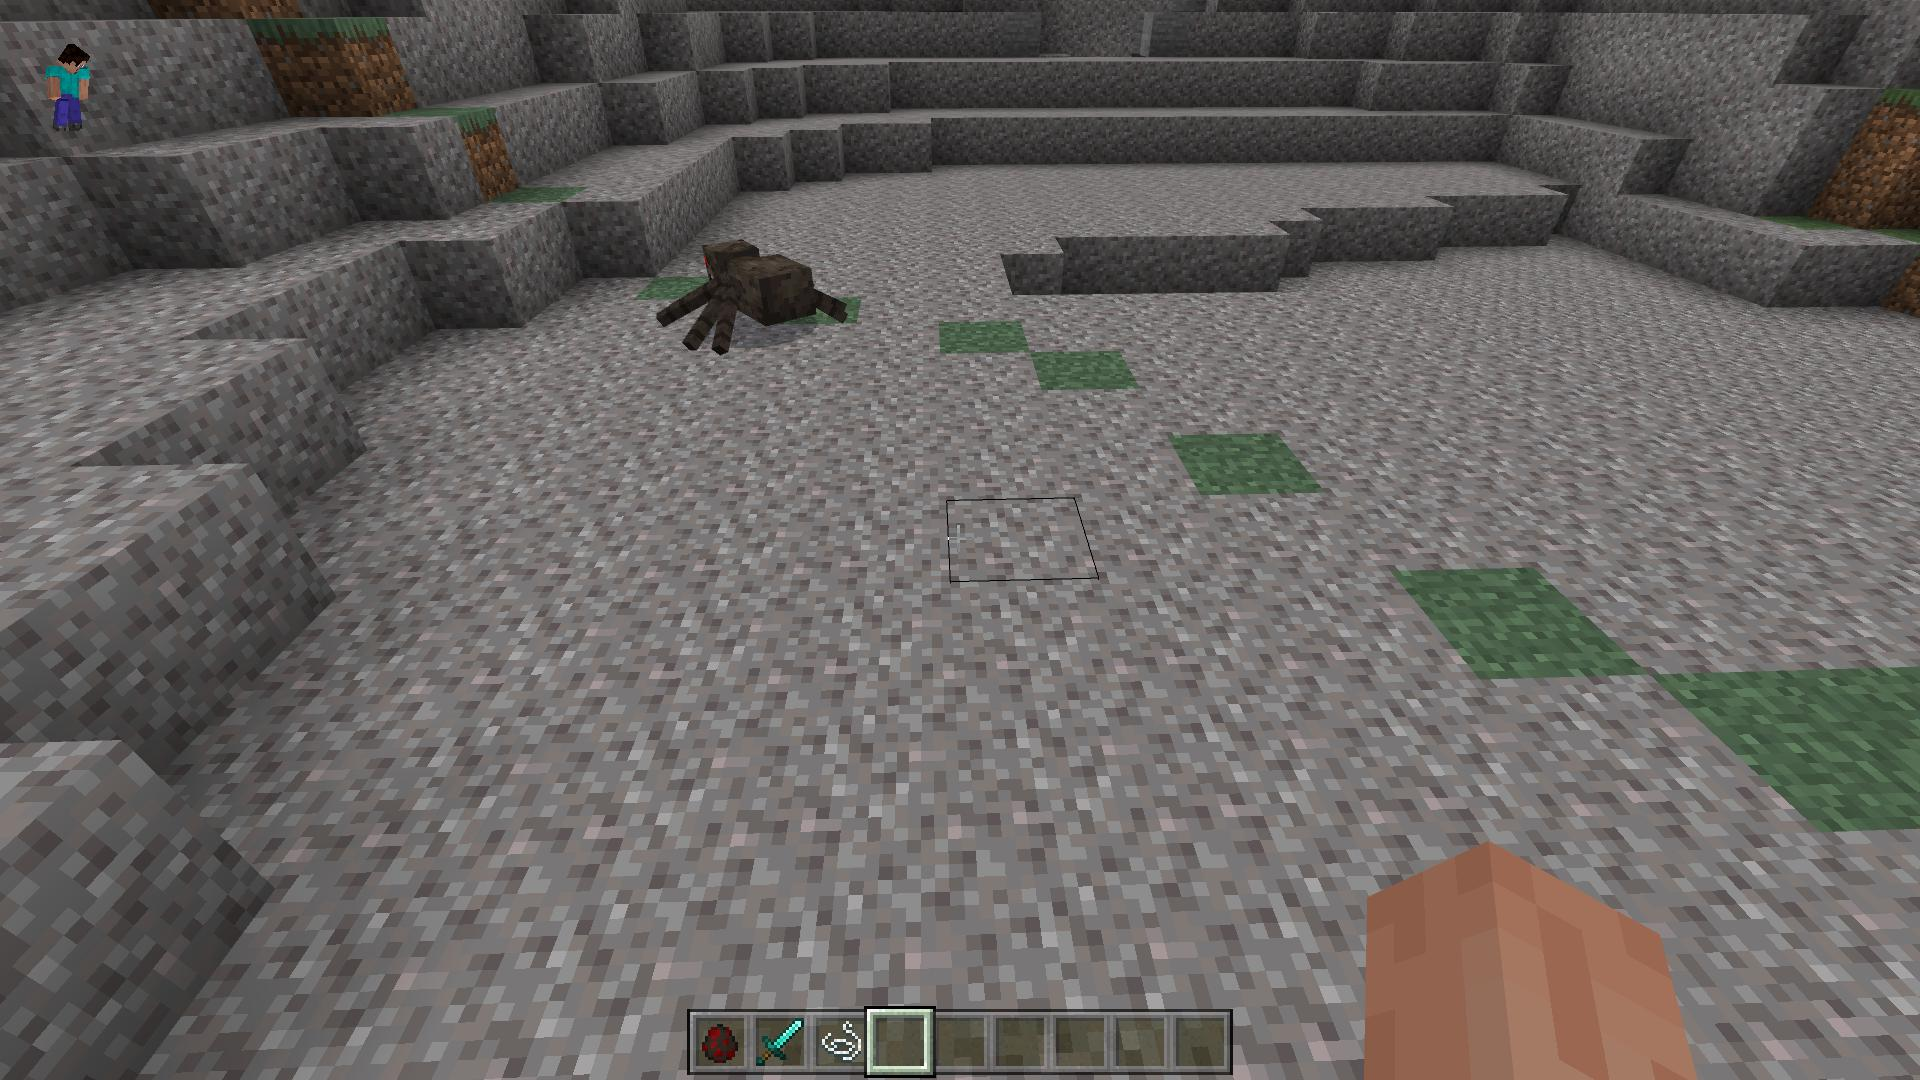spider: (655, 239, 853, 360)
